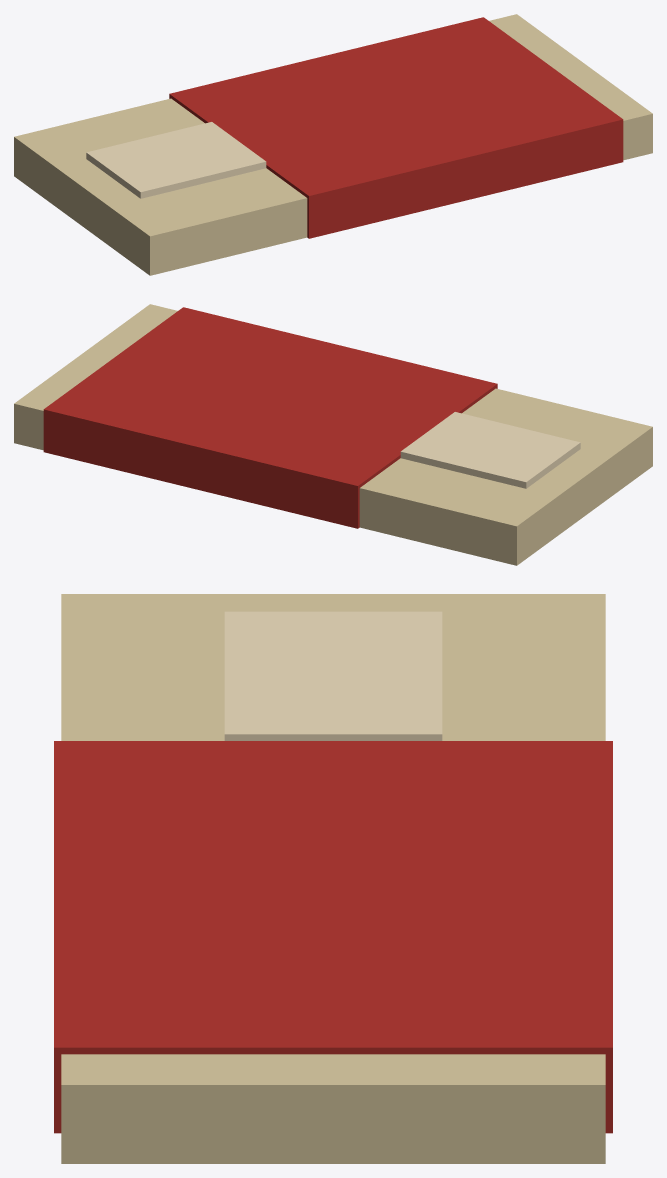
File: chocolate.glb
3 views of the same model, one above another, from view 1: azimuth 30°, elevation 25°; view 2: azimuth 150°, elevation 25°; view 3: azimuth 270°, elevation 25° (orthographic). The views are drawn at different scales.
Visible parts, largest first — view 1: Item; view 2: Item; view 3: Item.
Part boxes in pixels (left/top/right/bottom): Item: left=14, top=14, right=652, bottom=275; Item: left=14, top=304, right=652, bottom=565; Item: left=54, top=594, right=612, bottom=1163.
Bounding box in the file's own units: 0.16 × 0.014 × 0.077.
